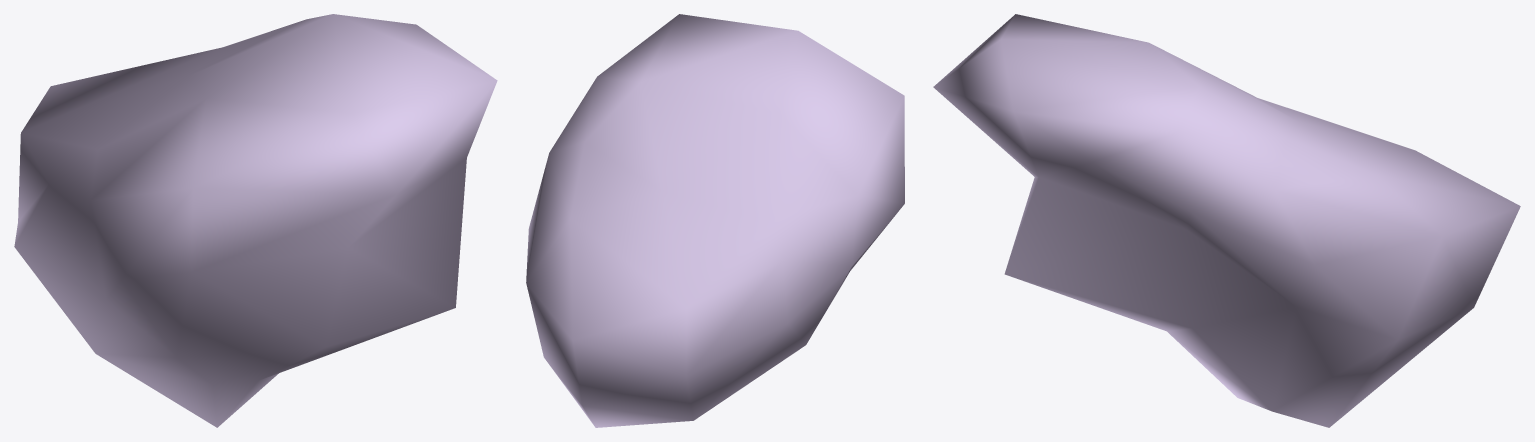
The picture shows the model from 3 angles, left to right: view 1: azimuth 30°, elevation 25°; view 2: azimuth 150°, elevation 25°; view 3: azimuth 270°, elevation 25°; orthographic projection. The views are drawn at different scales.
Parts seen in each view (by area): view 1: Object71; view 2: Object71; view 3: Object71.
Part boxes in pixels (<box>): Object71: <box>14,14,497,427</box>; Object71: <box>526,14,904,427</box>; Object71: <box>933,14,1520,427</box>.
Size of the model in its own units: 17124 by 17962 by 26756.
